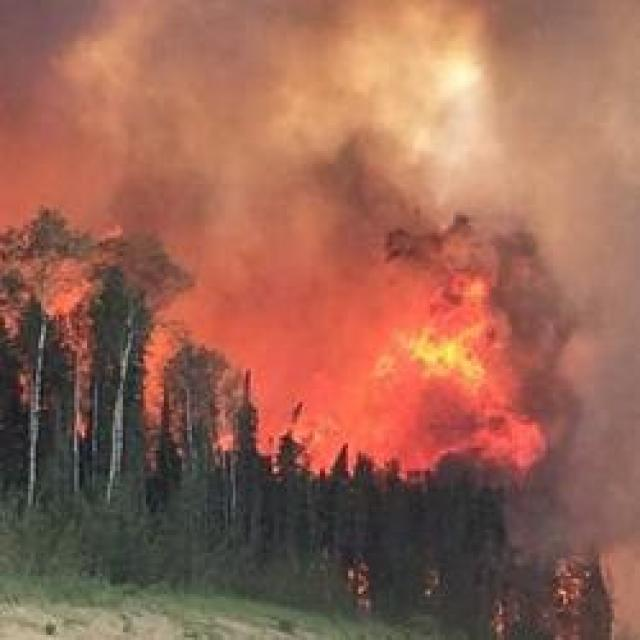fire: (404, 335, 480, 383)
smoke: (473, 0, 640, 230), (493, 332, 640, 543), (384, 210, 640, 325), (226, 93, 416, 215), (111, 166, 221, 233)
